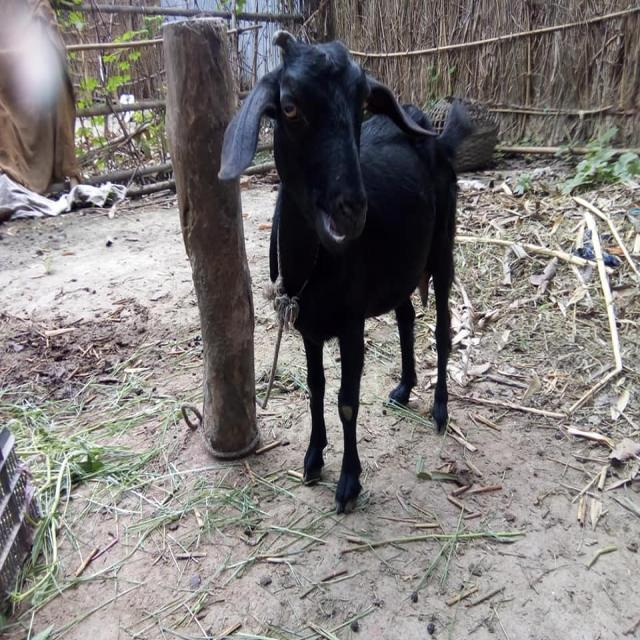Goat: (217, 28, 477, 514)
